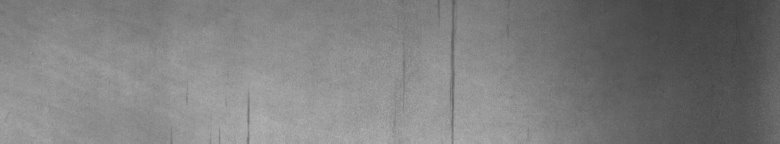ka: (403, 4, 459, 136)
